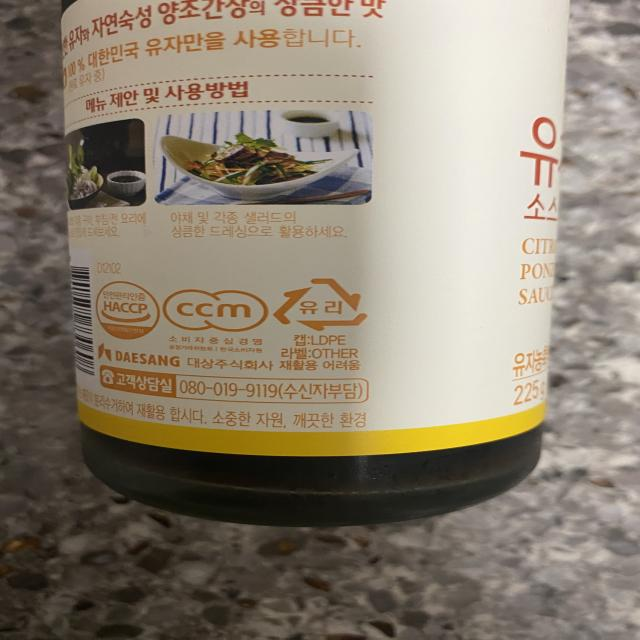Glass: (272, 269, 371, 337)
